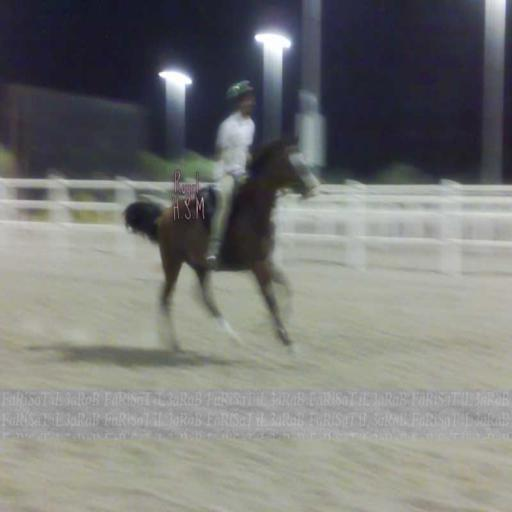horse: (118, 132, 324, 360)
